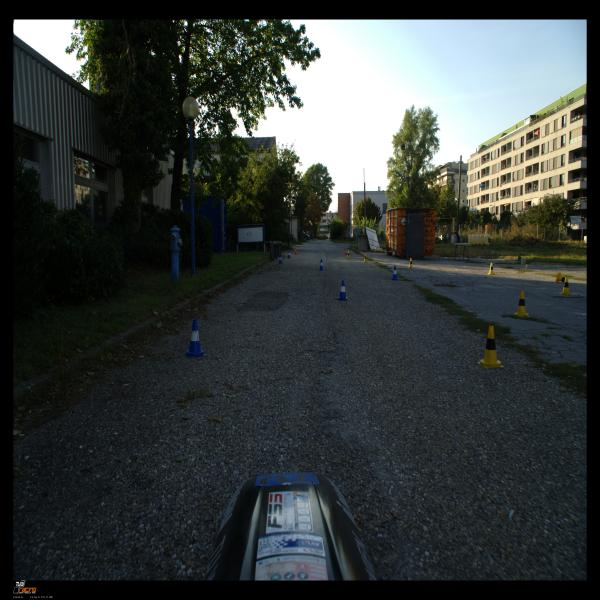blue_cone: (184, 319, 206, 358), (337, 280, 349, 301), (390, 266, 399, 280), (318, 259, 325, 270), (278, 254, 284, 264), (287, 251, 291, 258)
orange_cone: (344, 248, 347, 255), (294, 248, 297, 255)
yellow_cone: (477, 326, 505, 368), (512, 291, 531, 317), (559, 276, 573, 296), (555, 272, 565, 283), (487, 262, 496, 274), (407, 258, 414, 268), (363, 254, 368, 262), (346, 251, 351, 258)
